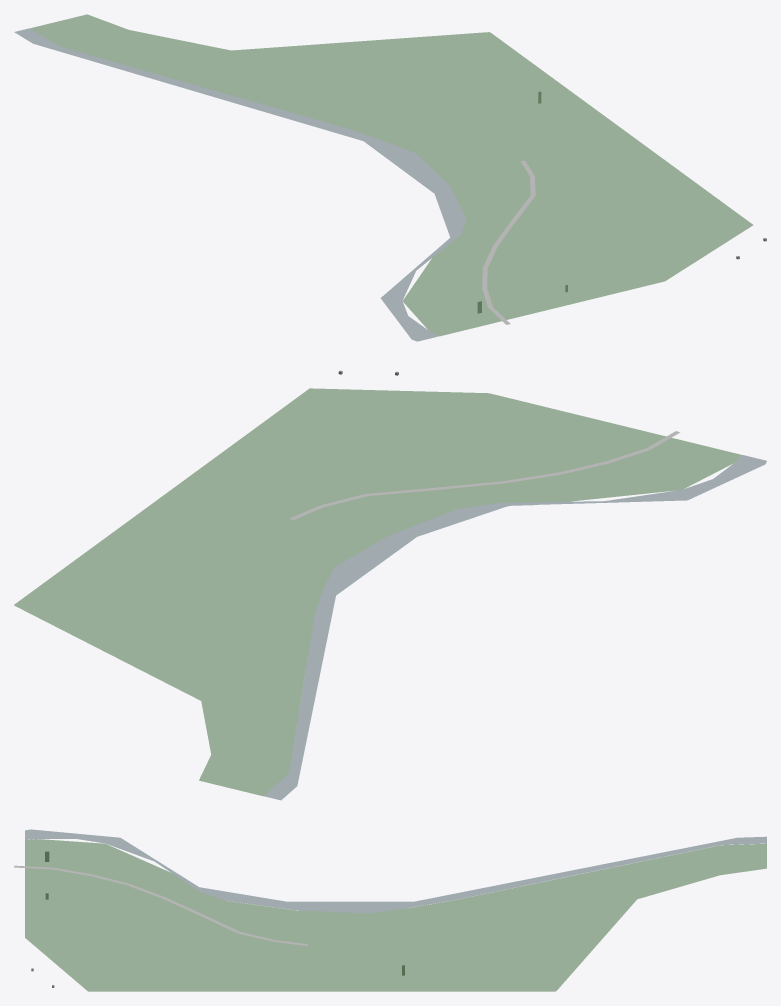
3 renders of one model, top to bottom at view 1: azimuth 30°, elevation 25°; view 2: azimuth 150°, elevation 25°; view 3: azimuth 270°, elevation 25°, orthographic. The views are drawn at different scales.
Bounding box in the file's own units: 258 × 9.14 × 507.
